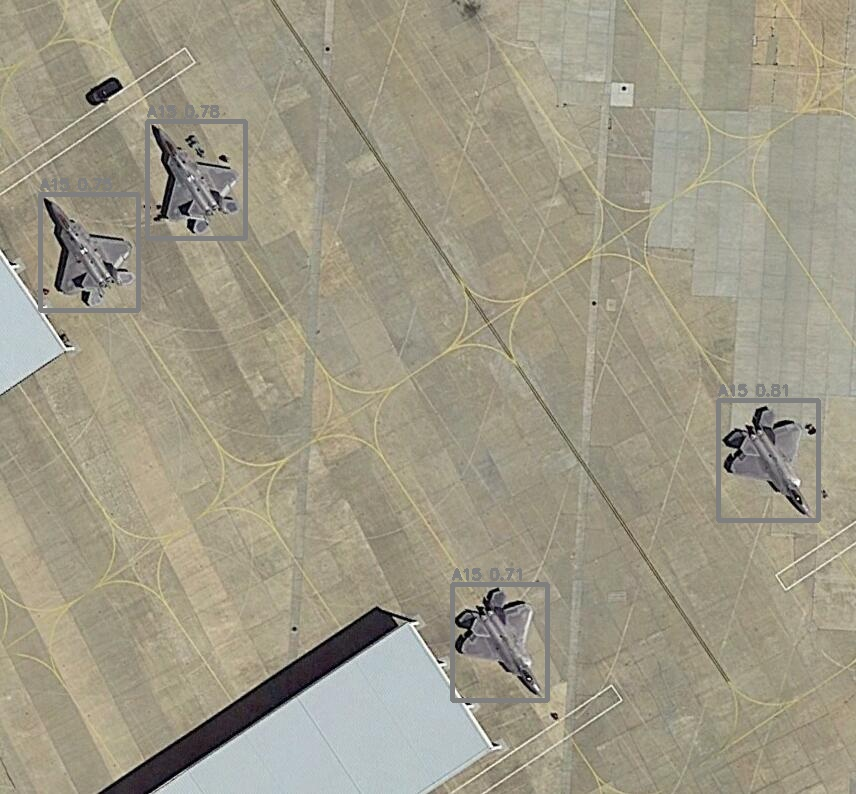A15: (718, 400, 818, 520), (147, 121, 245, 238), (40, 194, 138, 310), (452, 584, 547, 700)
